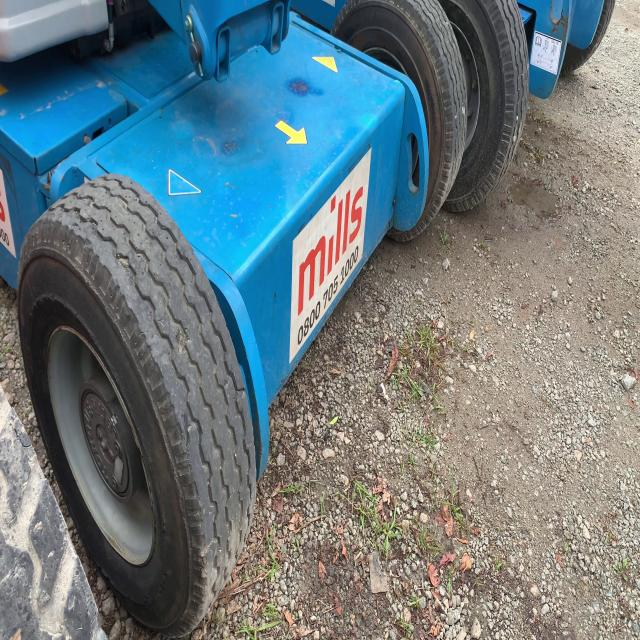Adesivos: (288, 144, 372, 366)
